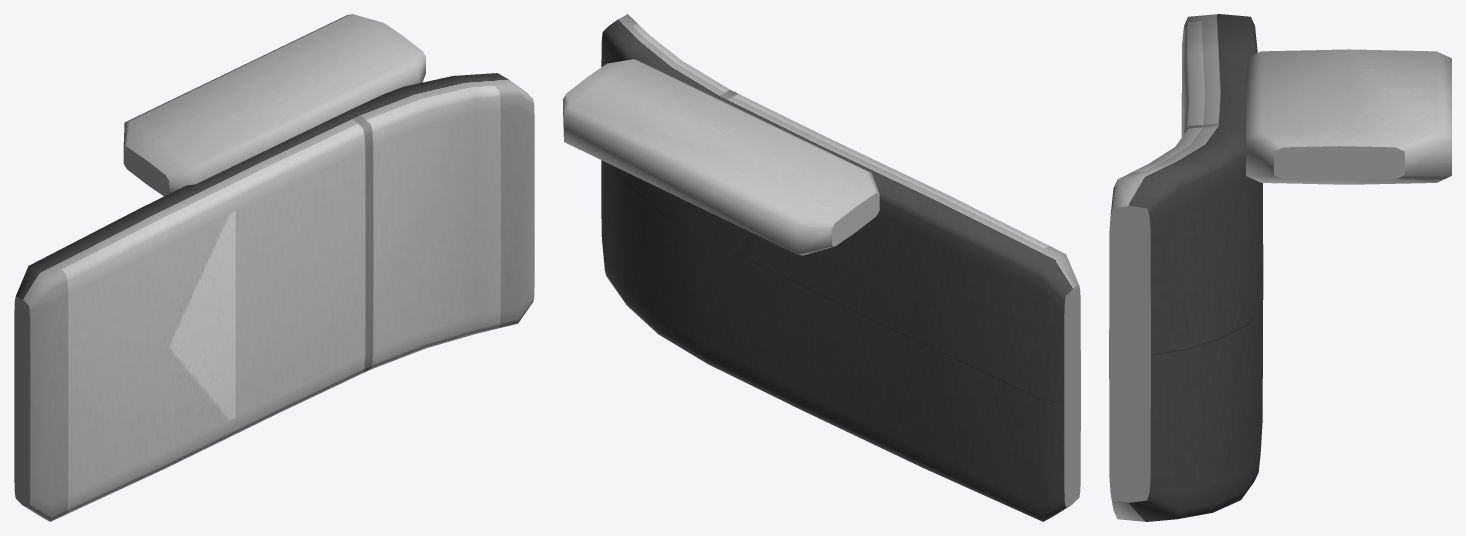
File: bouclier.glb
3 renders of one model, left to right at view 1: azimuth 30°, elevation 25°; view 2: azimuth 150°, elevation 25°; view 3: azimuth 270°, elevation 25°, orthographic. The views are drawn at different scales.
Parts seen in each view (by area): view 1: Bouclier; view 2: Bouclier; view 3: Bouclier.
Part boxes in pixels (x1=…): Bouclier: x1=14, y1=14, x2=534, y2=521; Bouclier: x1=563, y1=14, x2=1080, y2=521; Bouclier: x1=1109, y1=14, x2=1451, y2=521.
Bounding box in the file's own units: 0.415 × 0.2955 × 0.1801.
Materials: 1 (1 with a texture image).
